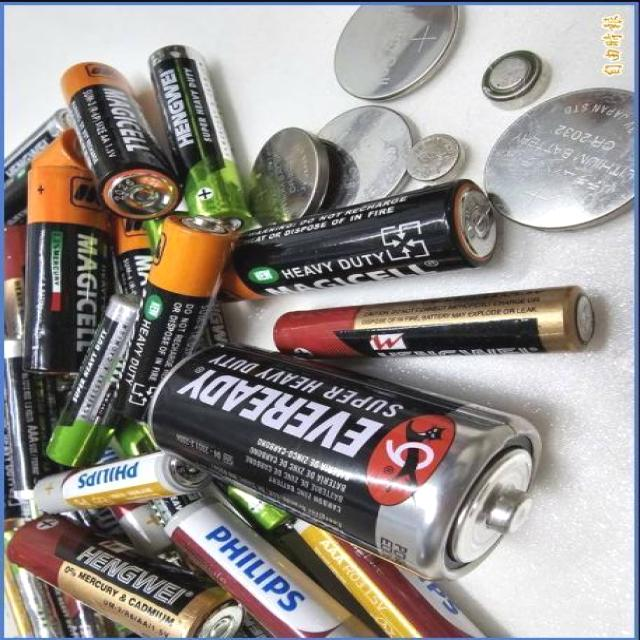AA: (215, 176, 504, 306), (160, 492, 388, 640), (4, 511, 244, 639), (106, 211, 240, 426), (267, 282, 601, 362), (57, 57, 184, 221), (21, 164, 114, 378), (30, 450, 210, 516)
COIN: (482, 84, 636, 234), (331, 4, 470, 103), (243, 125, 333, 226), (478, 46, 553, 110), (403, 129, 471, 185)
